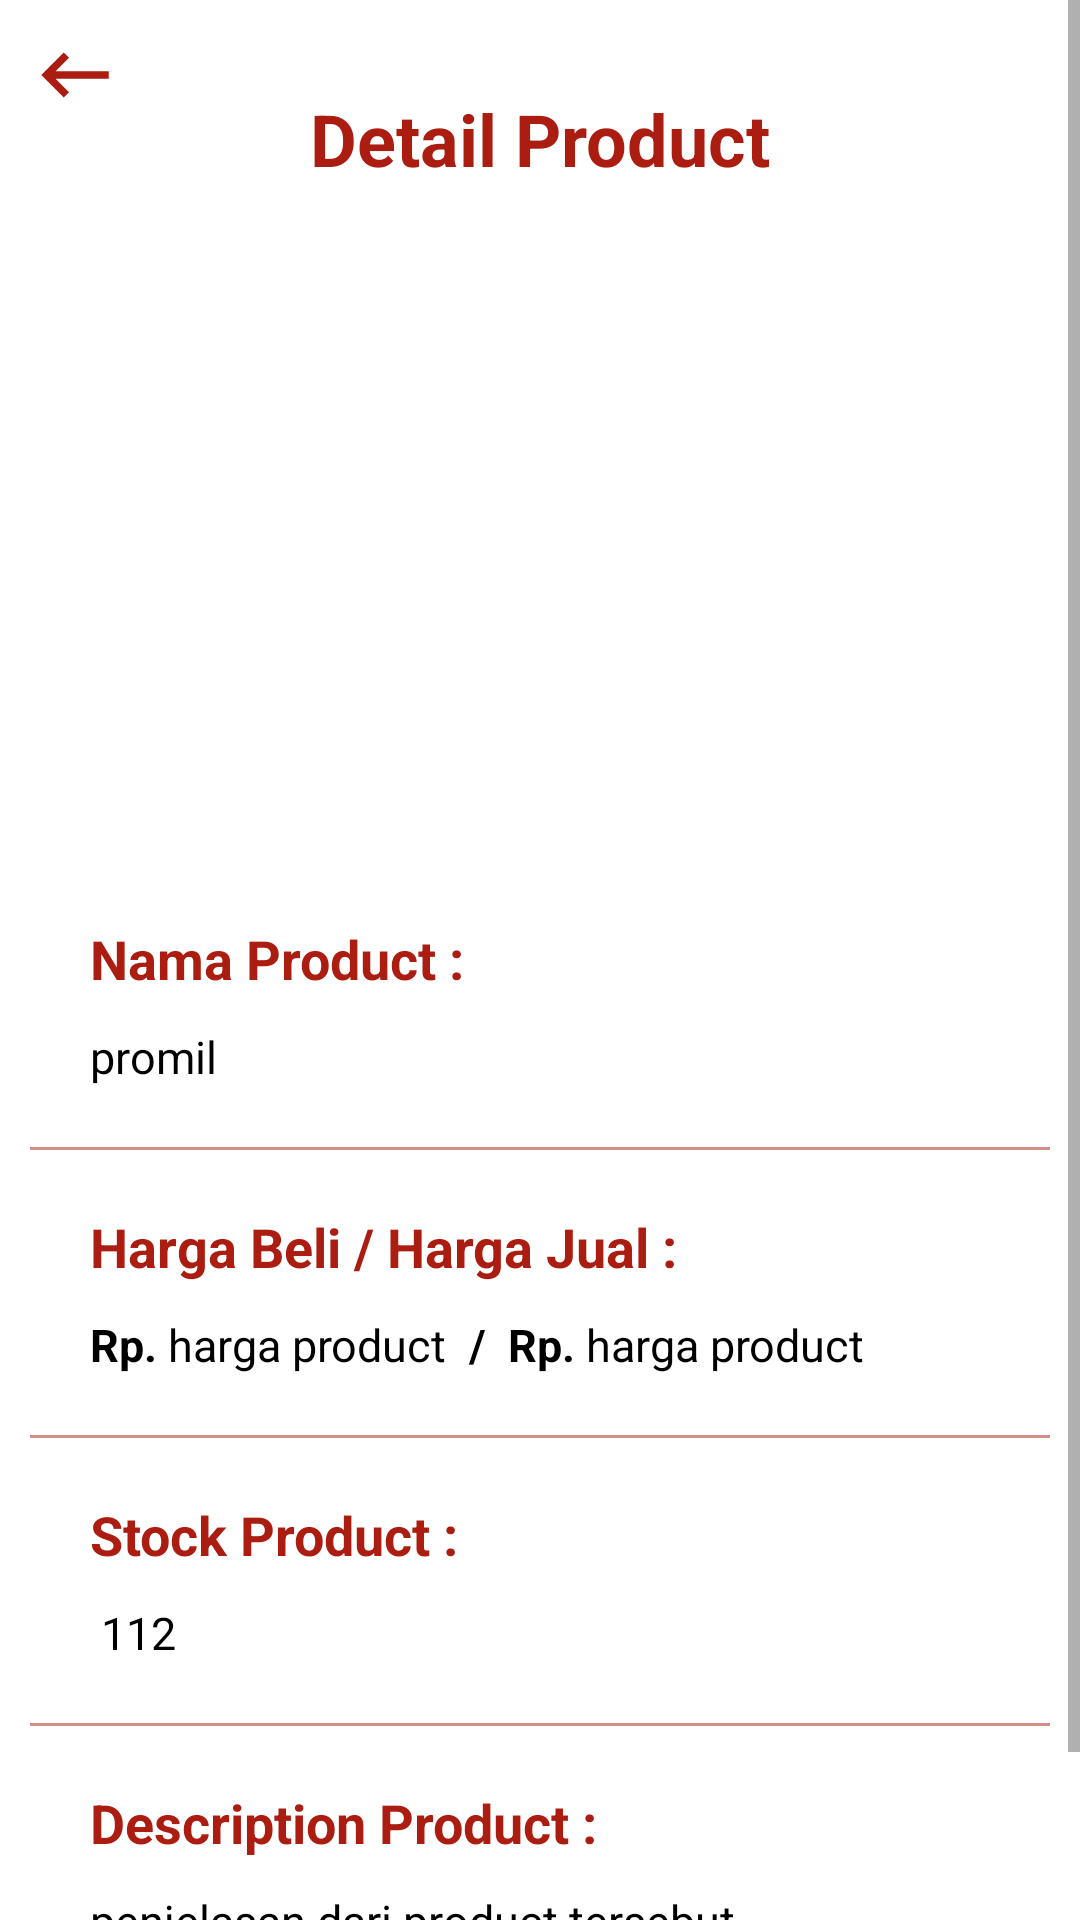

Icon click points for this 1080w x 1920h phone screenshot, format [x,y]:
keyboard backspace: [75,75]
